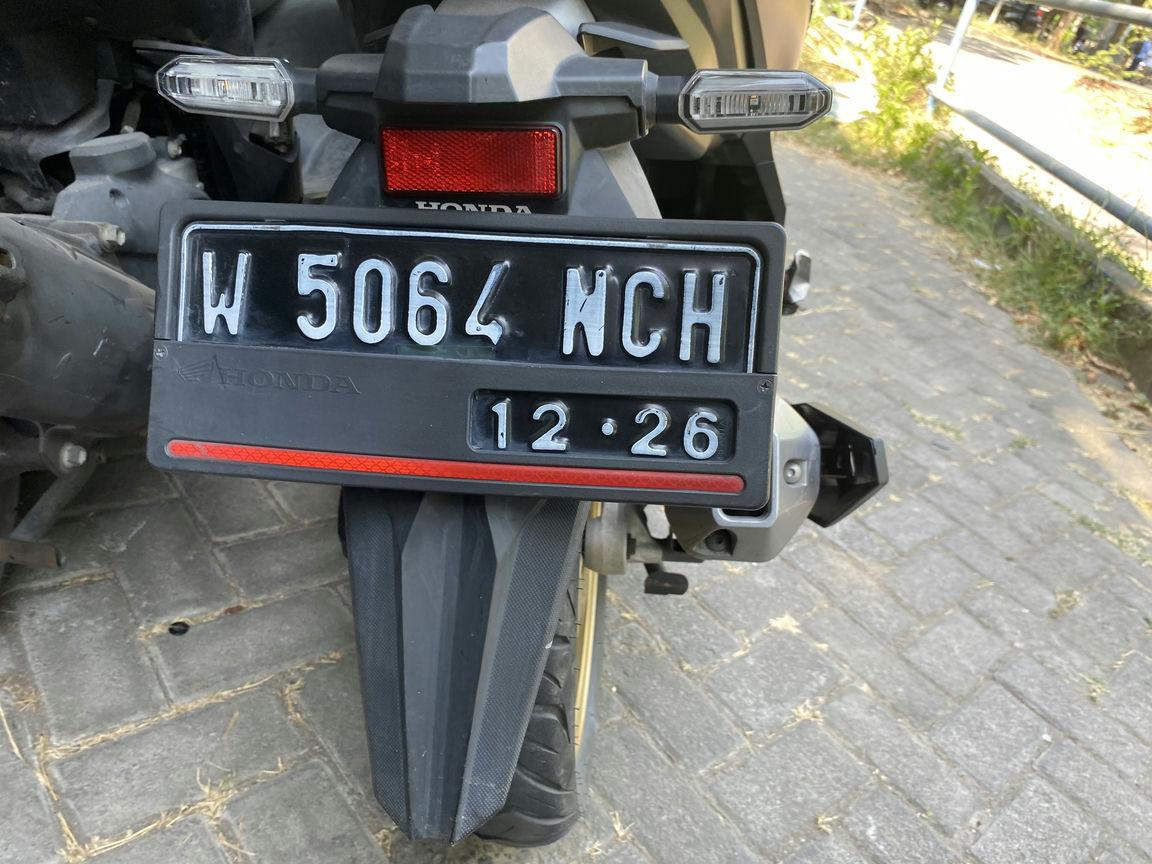plat: (154, 227, 765, 479)
